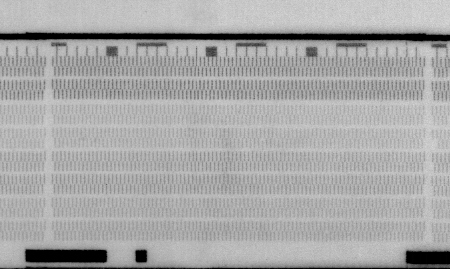Broken hole: (428, 140, 443, 150)
Oblique printing: (257, 137, 269, 152)
